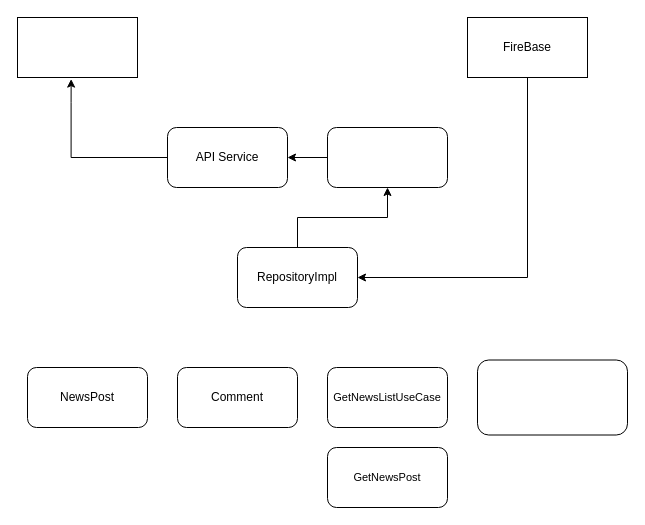
This 645x525 diagram has some shape labels left out. The shapes that lost their labels are listed below. From the top down, each one's centre as x and y in pixels, then its label:
At (77,47): "API".
At (387,157): "RetrofitInstance".
At (552,397): "GetCommentsListUseCase".
